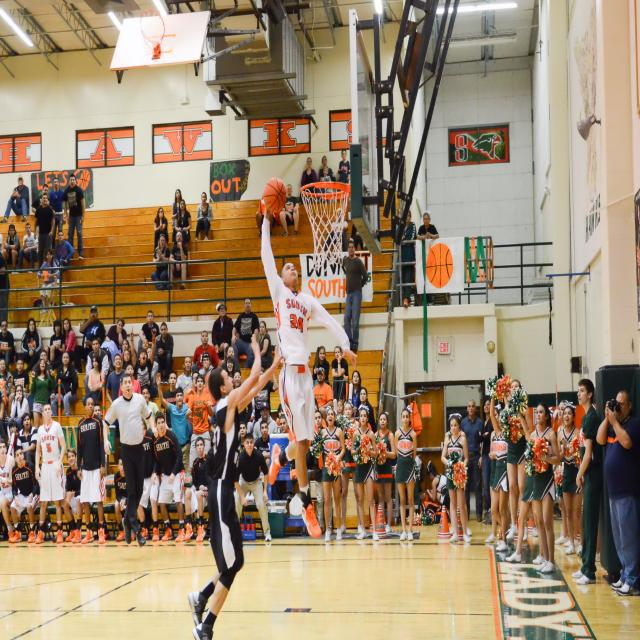body: (260, 201, 358, 539), (188, 333, 286, 640), (102, 372, 159, 547), (595, 388, 640, 597), (572, 377, 603, 586), (505, 419, 545, 564), (528, 401, 561, 575), (502, 564, 574, 640), (325, 239, 369, 357), (76, 393, 107, 545), (34, 402, 67, 543), (504, 378, 532, 542), (231, 432, 272, 542), (152, 410, 185, 543), (155, 372, 196, 476), (556, 405, 584, 555), (441, 412, 472, 545), (350, 406, 380, 542), (554, 399, 579, 547), (443, 410, 471, 537), (489, 384, 509, 552), (321, 408, 346, 541), (307, 410, 333, 536), (394, 406, 418, 542), (460, 398, 485, 522), (340, 402, 363, 534), (10, 445, 40, 544), (185, 373, 215, 470), (136, 416, 158, 542), (374, 411, 396, 533), (184, 436, 208, 543), (116, 326, 138, 436), (73, 304, 106, 374), (230, 297, 260, 374), (486, 407, 502, 544), (398, 208, 418, 308), (63, 173, 85, 261), (63, 448, 83, 543), (50, 351, 79, 416), (30, 358, 56, 430), (114, 456, 135, 542), (0, 437, 16, 542), (33, 193, 55, 269), (252, 366, 278, 428), (480, 397, 494, 511), (36, 249, 60, 314), (16, 412, 42, 468), (84, 338, 109, 395), (160, 372, 184, 431), (0, 175, 30, 222), (20, 316, 42, 377), (211, 302, 234, 360), (313, 367, 334, 428), (154, 321, 174, 385), (425, 460, 451, 509), (82, 354, 105, 408), (168, 229, 188, 290), (192, 330, 220, 373), (137, 310, 160, 362), (49, 177, 65, 250), (151, 233, 171, 291), (54, 229, 75, 284), (16, 222, 38, 274), (233, 370, 252, 430), (248, 321, 272, 368), (324, 207, 348, 253), (105, 354, 126, 406), (253, 402, 278, 444), (8, 384, 29, 434), (280, 184, 300, 236), (355, 387, 377, 434), (194, 192, 214, 242), (298, 157, 318, 205), (140, 386, 160, 432), (2, 223, 20, 274), (317, 155, 336, 203), (11, 357, 30, 405), (347, 370, 365, 420), (45, 319, 65, 363), (332, 346, 348, 401), (174, 198, 192, 246), (175, 356, 193, 404), (253, 420, 270, 470), (256, 196, 276, 238), (0, 248, 10, 330), (0, 319, 15, 373), (118, 362, 141, 397), (153, 206, 169, 255), (105, 317, 127, 351), (312, 345, 330, 386), (62, 317, 78, 363), (416, 210, 440, 240), (31, 183, 53, 214), (146, 346, 158, 402), (221, 346, 242, 376), (32, 348, 53, 378), (183, 370, 200, 405), (171, 188, 182, 242), (0, 357, 12, 405), (5, 418, 19, 458), (198, 352, 214, 386), (0, 389, 9, 447), (337, 149, 350, 184), (279, 414, 294, 442), (237, 420, 248, 454), (351, 223, 364, 251), (119, 339, 133, 363), (335, 399, 345, 431), (224, 356, 236, 379), (93, 403, 105, 426), (122, 349, 132, 370), (276, 403, 284, 426), (321, 166, 332, 182), (142, 338, 150, 351), (142, 338, 149, 351), (314, 397, 318, 413)
